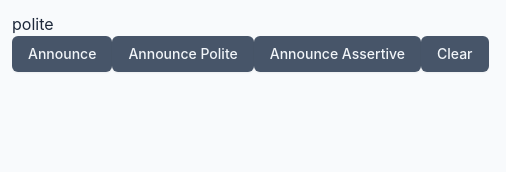
Test: useAriaLive Hook › provides convenience methods
Note: Test polite announcement
Click the button "Announce Polite".
click(183, 54)  # box left=112, top=36, right=254, bottom=72
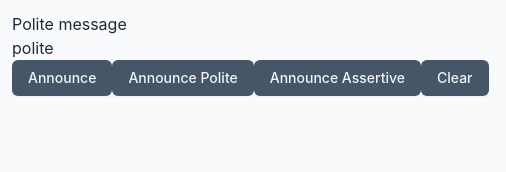
Check: the text with test id "politeness" reads "polite", box left=12, top=38, right=54, bottom=58
Check: the text with test id "message" reads "Polite message", box left=12, top=14, right=127, bottom=34
Click the button "Announce Assertive".
click(337, 78)  # box left=254, top=60, right=421, bottom=96
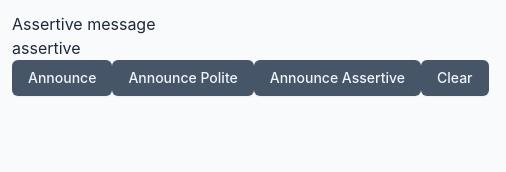
Check: the text with test id "message" reads "Assertive message", box left=12, top=14, right=156, bottom=34
Check: the text with test id "politeness" reads "assertive", box left=12, top=38, right=81, bottom=58
